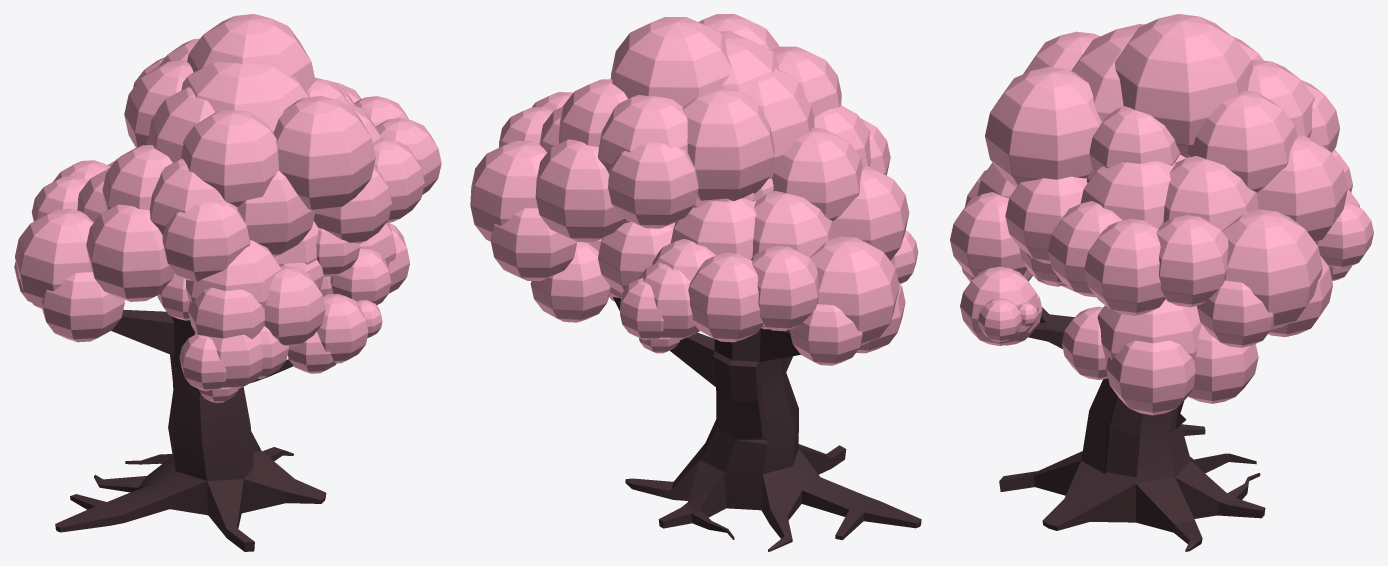
Rendered from CherryTree.fbx.
3 views of the same model, side by side, from view 1: azimuth 30°, elevation 25°; view 2: azimuth 150°, elevation 25°; view 3: azimuth 270°, elevation 25° (orthographic). The views are drawn at different scales.
Visible parts, largest first — view 1: pSphere70; view 2: pSphere70; view 3: pSphere70.
Boxes of the visible parts, x1,y1,x2,y2 form: pSphere70: (14, 14, 441, 551); pSphere70: (470, 14, 921, 551); pSphere70: (950, 14, 1373, 551).
Bounding box in the file's own units: 15.33 × 17.4 × 12.99.
Materials: 1 (1 with a texture image).
